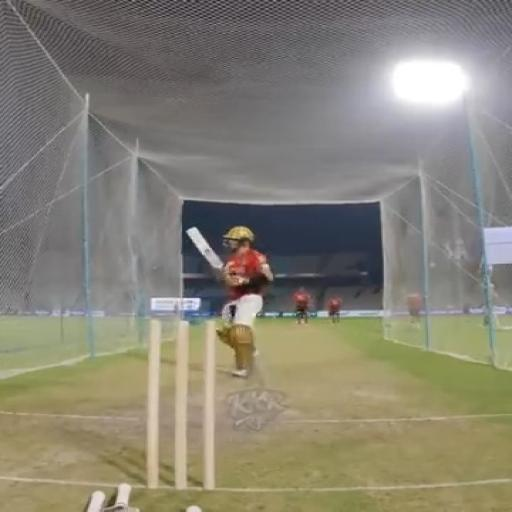Cricket bat: (186, 228, 222, 270)
